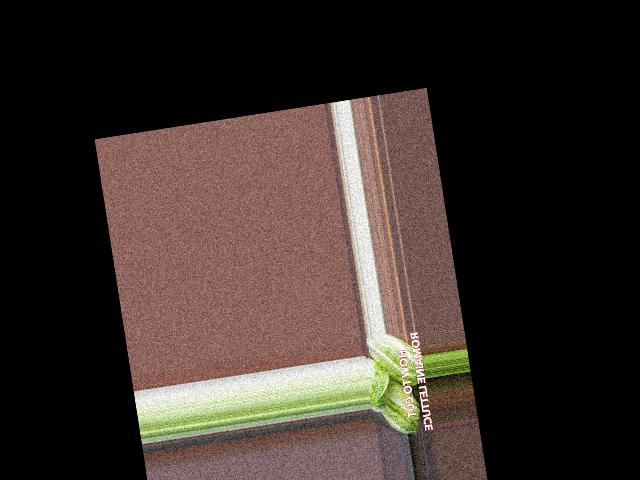lettuce: (371, 369, 428, 440)
